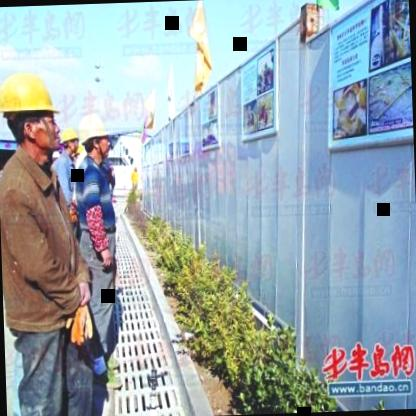helmet: (0, 65, 60, 162), (82, 113, 112, 162), (60, 126, 80, 158)
